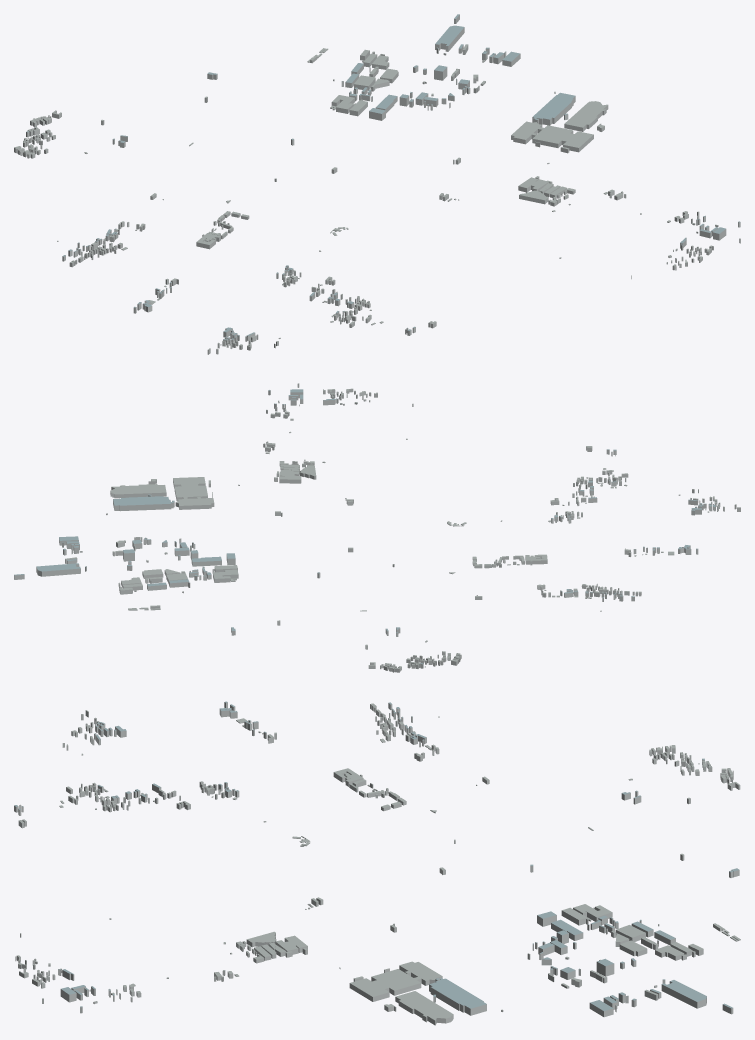
The model's file is far.glb.
3 renders of one model, top to bottom at view 1: azimuth 30°, elevation 25°; view 2: azimuth 150°, elevation 25°; view 3: azimuth 270°, elevation 25°, orthographic. The views are drawn at different scales.
Bounding box in the file's own units: 2173 × 33.42 × 2103.
